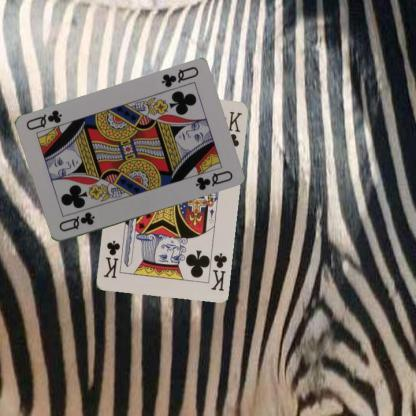Kc: (208, 250, 228, 292)
Qc: (158, 64, 200, 89), (57, 210, 96, 233)
